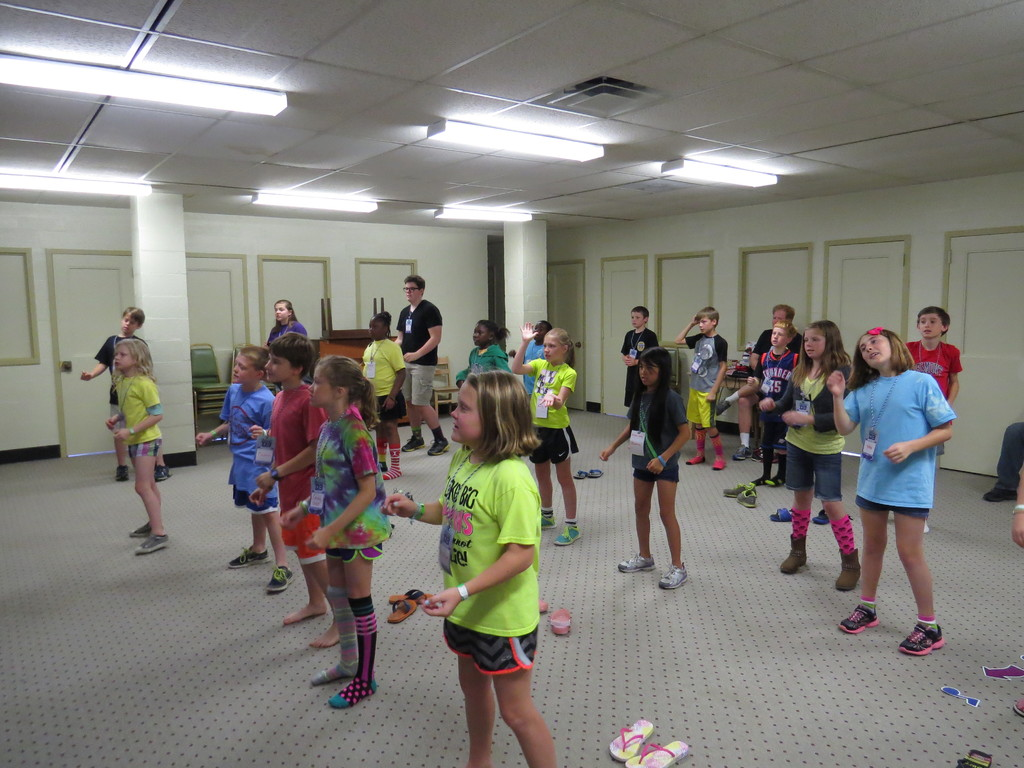Person: (380, 367, 558, 768), (825, 326, 957, 658), (278, 356, 391, 709), (246, 329, 341, 650), (762, 321, 862, 591), (600, 347, 692, 589), (196, 345, 276, 593), (78, 305, 169, 484), (512, 314, 579, 546), (106, 338, 170, 555), (717, 303, 803, 459), (904, 306, 959, 533), (396, 277, 450, 455), (674, 303, 725, 471), (748, 321, 799, 486), (361, 312, 404, 481), (619, 307, 659, 408), (450, 321, 513, 384), (507, 322, 551, 400), (262, 299, 304, 349)
